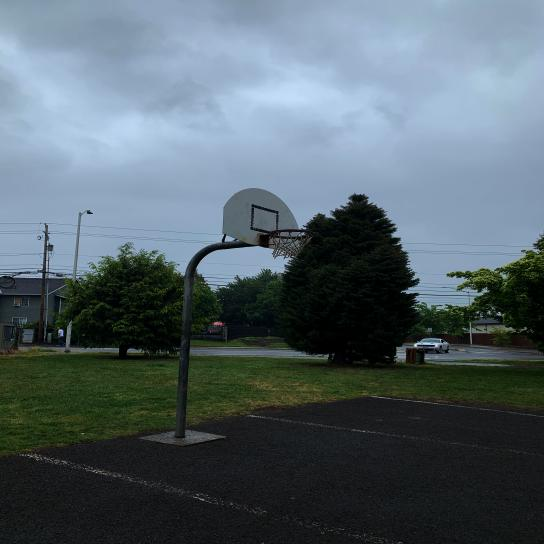basketball-hoop: (268, 228, 316, 260)
